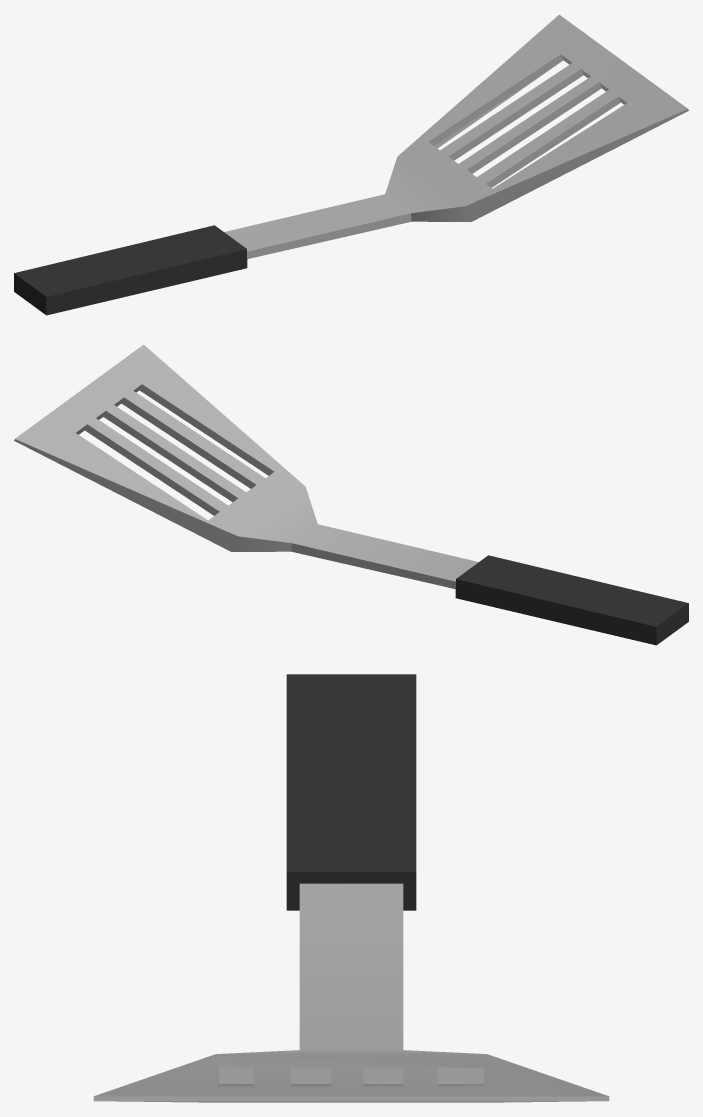
File: Spatula.fbx
3 renders of one model, top to bottom at view 1: azimuth 30°, elevation 25°; view 2: azimuth 150°, elevation 25°; view 3: azimuth 270°, elevation 25°, orthographic. The views are drawn at different scales.
Visible parts, largest first — view 1: Spatula; view 2: Spatula; view 3: Spatula.
Boxes of the visible parts, x1,y1,x2,y2 form: Spatula: [14, 14, 688, 315]; Spatula: [14, 344, 688, 645]; Spatula: [93, 674, 609, 1102].
Size of the model in its own units: 77.83 by 12.37 by 29.25.
